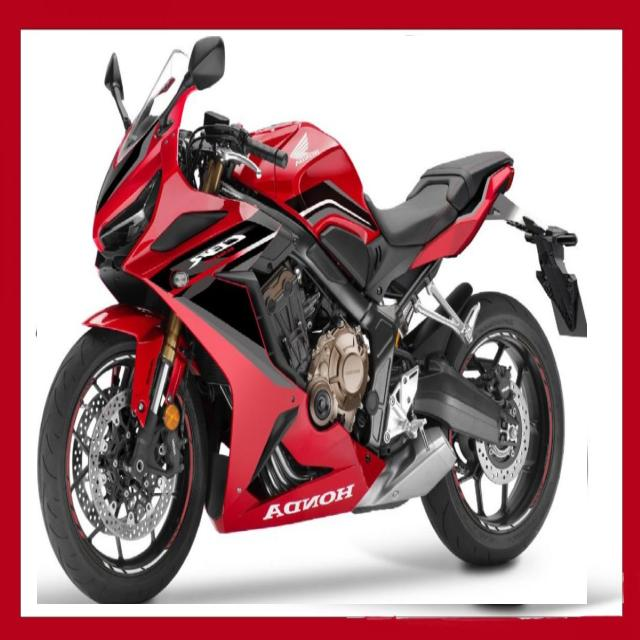motorcycle: (38, 36, 587, 604)
